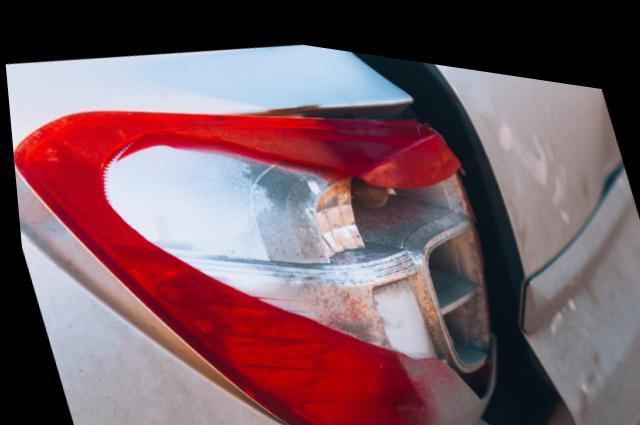lamp broken: (11, 103, 493, 425)
